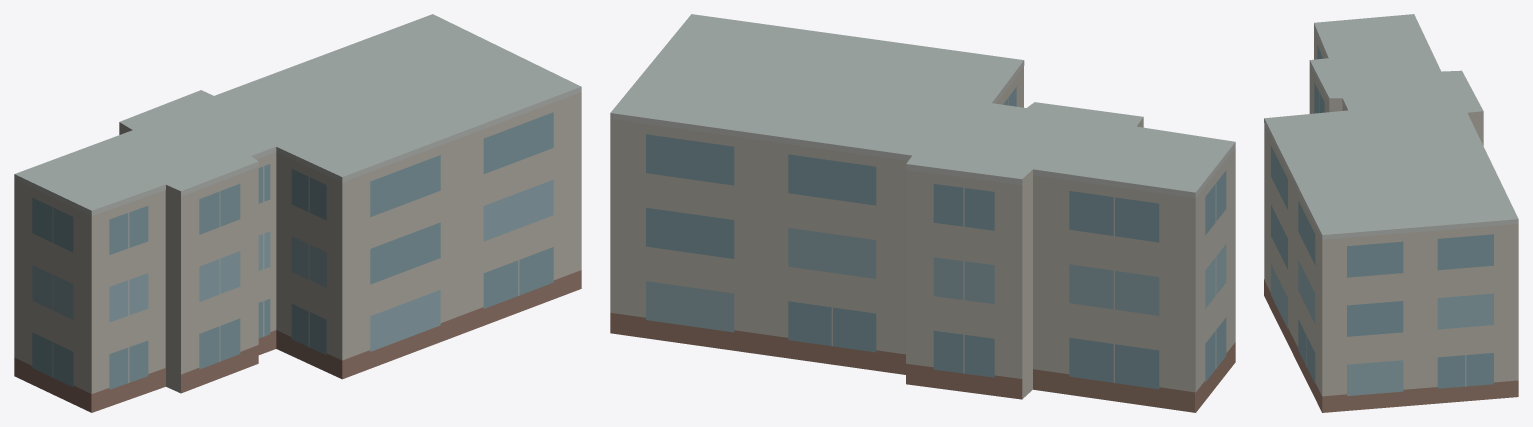
Rendered from survey-upis-32574258.glb.
3 renders of one model, left to right at view 1: azimuth 30°, elevation 25°; view 2: azimuth 150°, elevation 25°; view 3: azimuth 270°, elevation 25°, orthographic. The views are drawn at different scales.
Parts seen in each view (by area): view 1: survey-upis-32574258.tmp; view 2: survey-upis-32574258.tmp; view 3: survey-upis-32574258.tmp.
Boxes of the visible parts, bbox=[...] form: survey-upis-32574258.tmp: bbox=[14, 14, 581, 412]; survey-upis-32574258.tmp: bbox=[610, 14, 1235, 412]; survey-upis-32574258.tmp: bbox=[1264, 14, 1518, 412].
Bounding box in the file's own units: 24.41 × 9.15 × 11.88.
